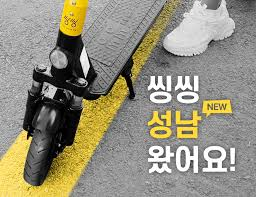kick_wheel: (24, 102, 62, 183)
